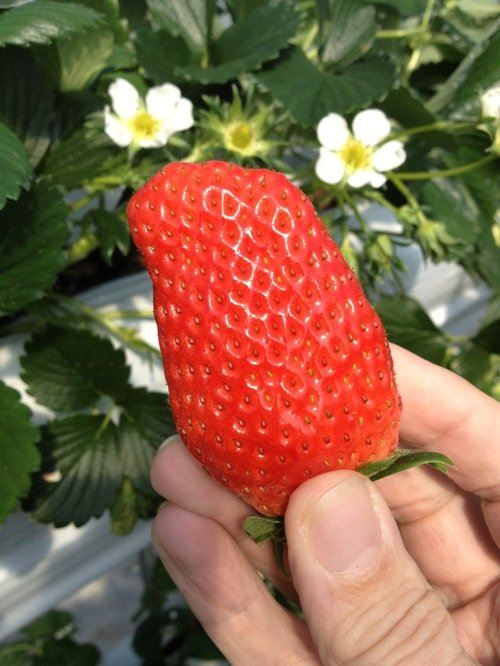ripe: (117, 152, 409, 546)
